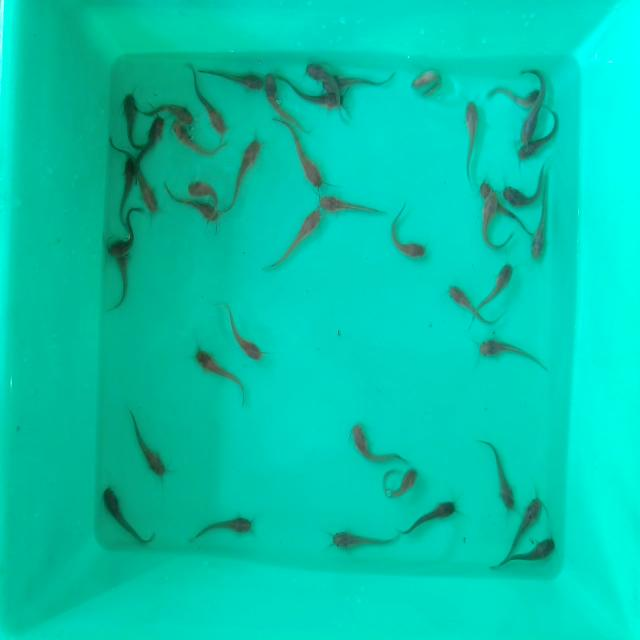lele: (100, 486, 156, 547), (127, 409, 168, 478), (476, 336, 546, 374), (278, 207, 322, 266), (350, 423, 416, 461), (229, 138, 263, 210), (193, 350, 242, 399), (289, 128, 326, 192), (484, 442, 516, 510), (388, 206, 429, 259), (228, 304, 262, 362), (504, 536, 555, 572), (194, 512, 254, 542), (170, 119, 210, 162), (200, 80, 230, 137), (210, 64, 263, 95), (264, 65, 290, 128), (407, 501, 456, 534), (482, 261, 515, 309), (462, 100, 481, 182), (294, 91, 346, 120), (321, 193, 378, 219), (441, 283, 480, 320), (329, 533, 401, 552), (479, 190, 501, 252), (170, 198, 215, 228), (136, 160, 159, 217), (487, 84, 537, 110), (108, 211, 136, 257), (516, 493, 544, 539), (324, 74, 384, 95), (504, 170, 540, 205), (114, 153, 135, 210), (381, 466, 416, 499), (530, 204, 550, 261), (409, 68, 444, 100), (141, 116, 167, 158), (112, 251, 130, 311), (121, 93, 141, 144), (520, 105, 543, 147), (478, 180, 509, 211), (159, 97, 194, 121), (301, 58, 332, 81), (186, 180, 223, 199), (518, 141, 551, 162)
